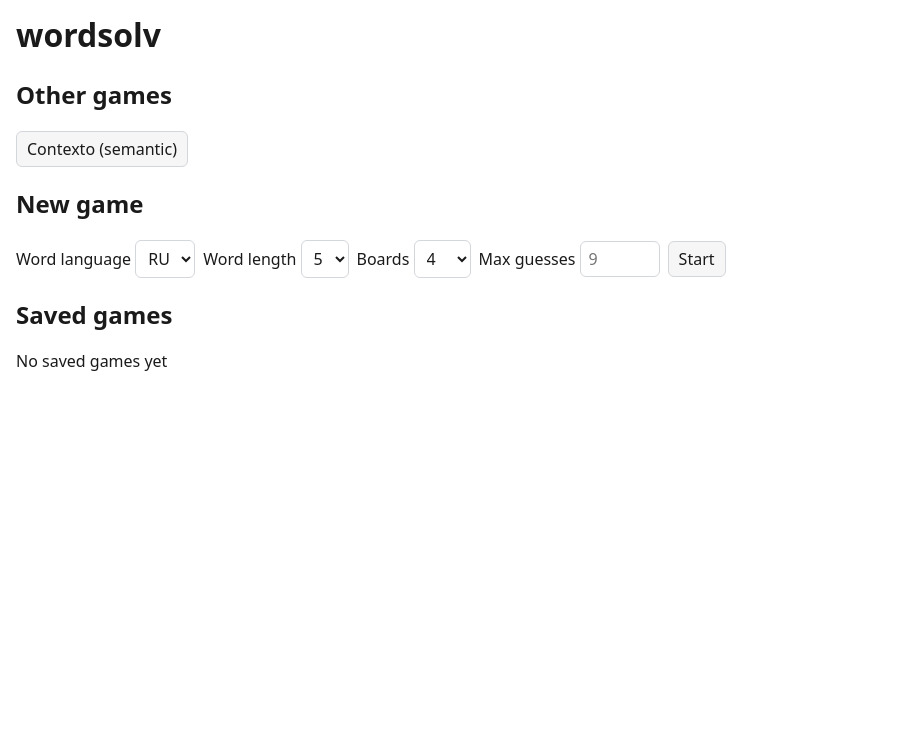
routes to the semantic screen and back, not silently staying on Wordle
Click the button with test id "setup-open-semantic".
click(102, 149)  # box top-left (16, 131), bottom-right (188, 167)
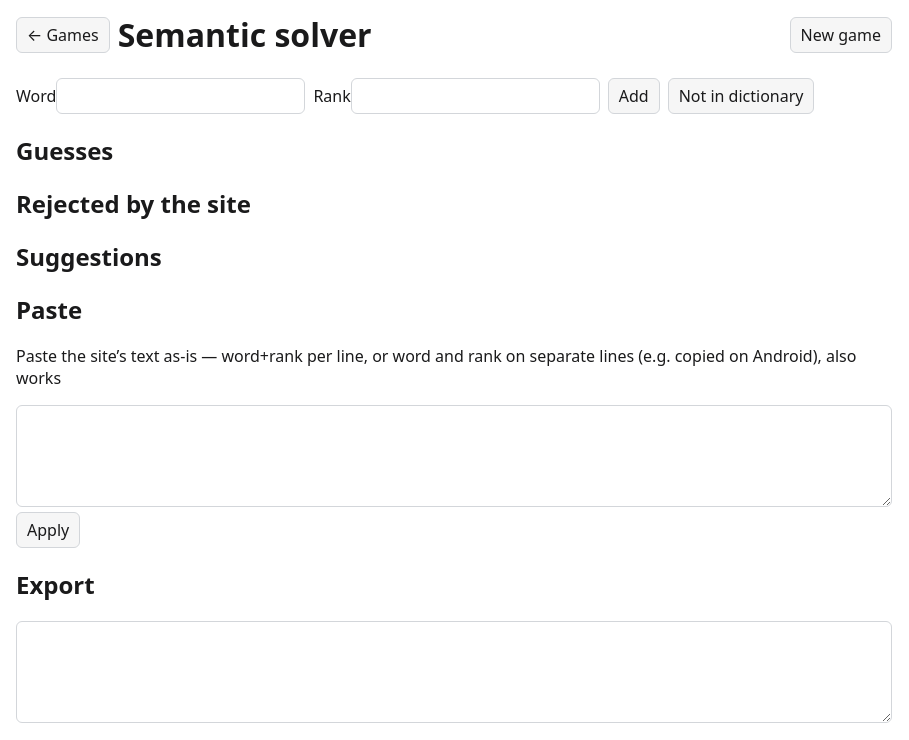
Result: the button with test id "setup-new-game" is gone
Result: the button with test id "semantic-back" is shown
Click the button with test id "semantic-back".
click(63, 35)  # box top-left (16, 17), bottom-right (110, 53)
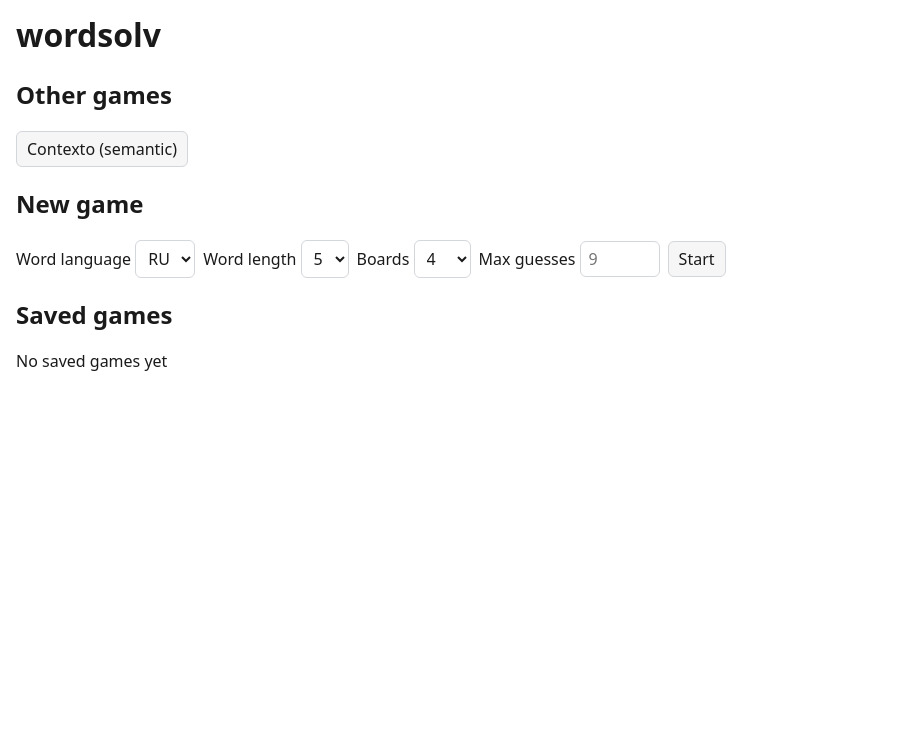
Result: the button with test id "setup-new-game" is shown at top-left (668, 241), bottom-right (726, 277)
Result: the button with test id "semantic-back" is gone
